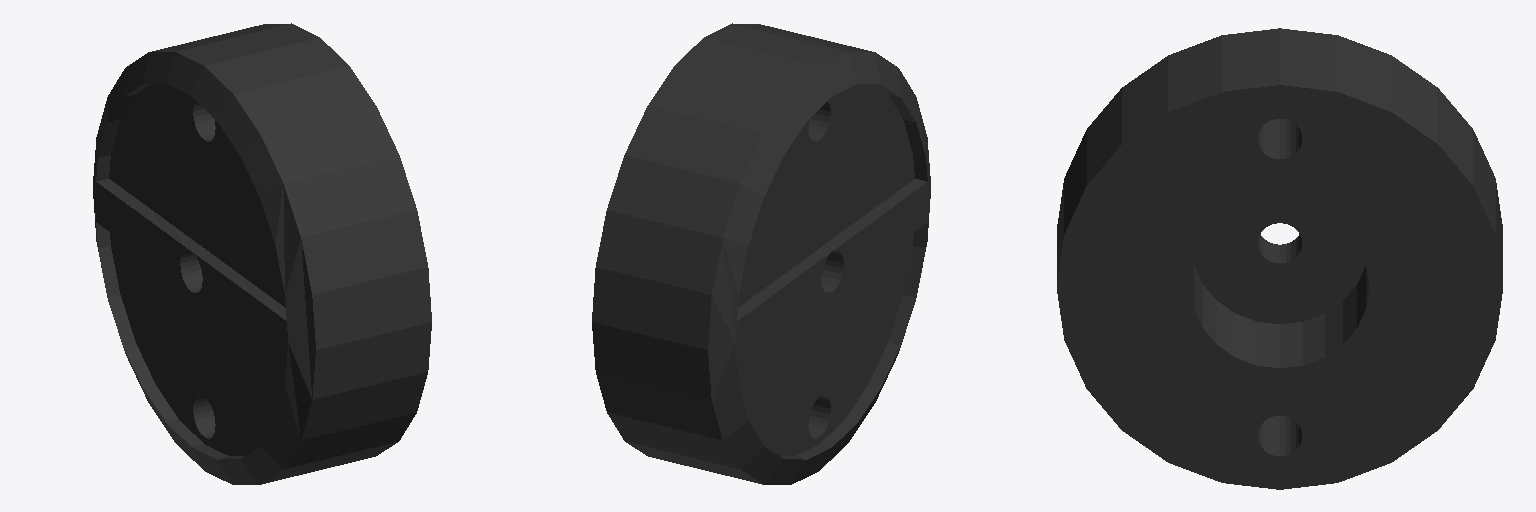
3 views of the same model, side by side, from view 1: azimuth 30°, elevation 25°; view 2: azimuth 150°, elevation 25°; view 3: azimuth 270°, elevation 25° (orthographic).
Bounding box in the file's own units: 10 × 30 × 30.
Materials: 1 (1 with a texture image).